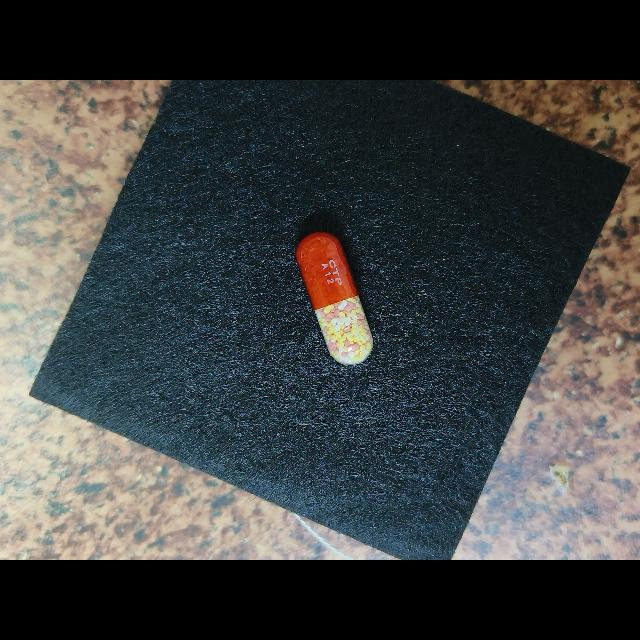Intact Capsule: (295, 232, 373, 365)
